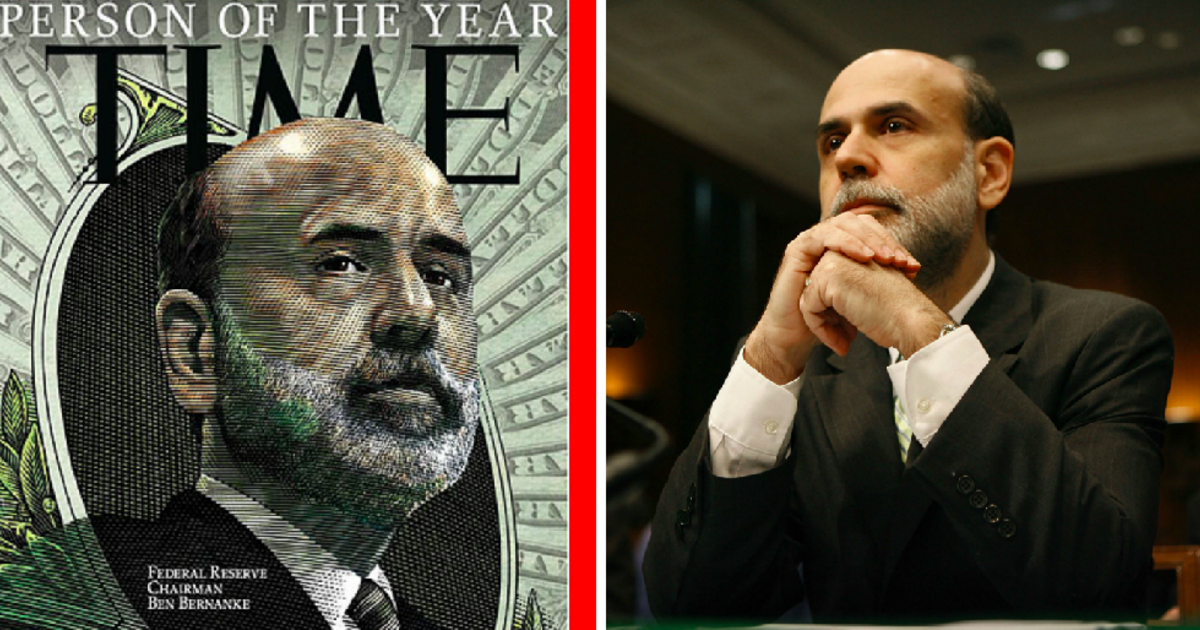person: (637, 54, 1159, 630)
